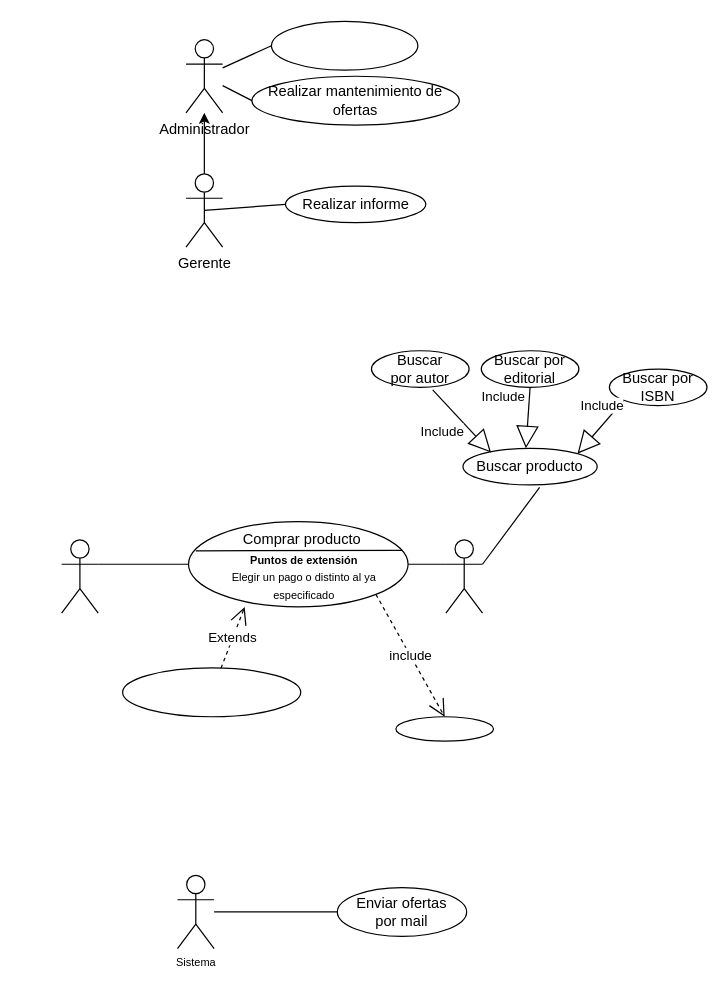
This 728x992 diagram has some shape labels left out. The shapes that lost their labels are listed below. From the top down, each one's centre as x and y in pixels, then its label:
At [344,45]: "AgregarProducto".
At [79,576]: "sistema financiero".
At [464,576]: "cliente".
At [211,692]: "pagar con tipo de pago diferente".
At [444,728]: "Loguearse".
